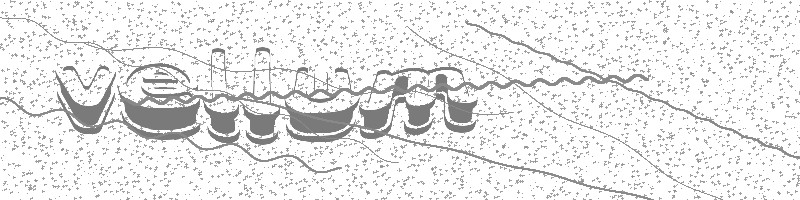e: (116, 63, 201, 142)
l: (203, 45, 243, 145), (242, 45, 281, 146)
m: (359, 64, 480, 139)
u: (281, 65, 359, 145)
v: (51, 60, 114, 138)
